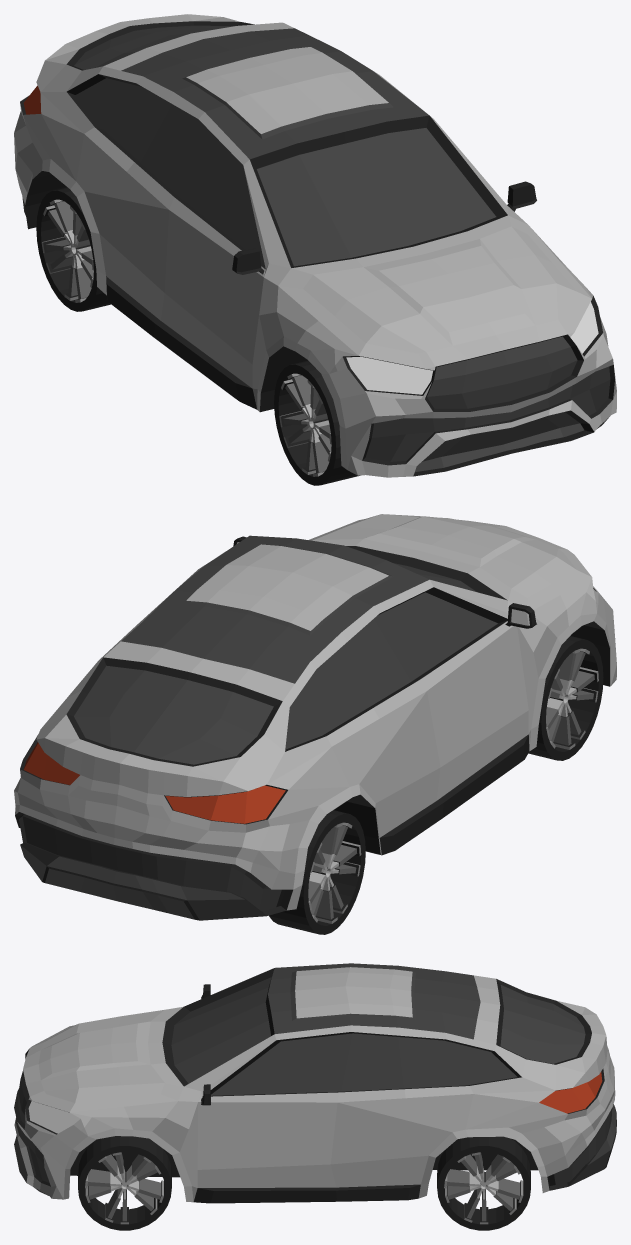
File: mercedesbenzamggle63coupe.fbx
The picture shows the model from 3 angles, top to bottom: view 1: azimuth 30°, elevation 25°; view 2: azimuth 150°, elevation 25°; view 3: azimuth 270°, elevation 25°; orthographic projection. The views are drawn at different scales.
Parts seen in each view (by area): view 1: WhiteBody, FrontRight, BackRight; view 2: WhiteBody, BackRight, FrontRight; view 3: WhiteBody, FrontLeft, BackLeft.
Part boxes in pixels (left/top/right/bottom): WhiteBody: left=14, top=14, right=616, bottom=477; FrontRight: left=274, top=360, right=360, bottom=485; BackRight: left=36, top=187, right=110, bottom=311; WhiteBody: left=14, top=514, right=616, bottom=920; BackRight: left=269, top=810, right=365, bottom=934; FrontRight: left=528, top=636, right=603, bottom=760; WhiteBody: left=14, top=963, right=616, bottom=1203; FrontLeft: left=78, top=1136, right=171, bottom=1230; BackLeft: left=437, top=1136, right=530, bottom=1230.
Size of the model in its own units: 2.16 by 4.98 by 1.78.
